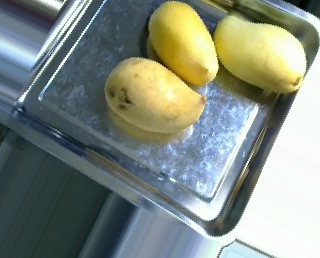Mango: (101, 52, 212, 145), (207, 10, 312, 99), (144, 5, 225, 86)
